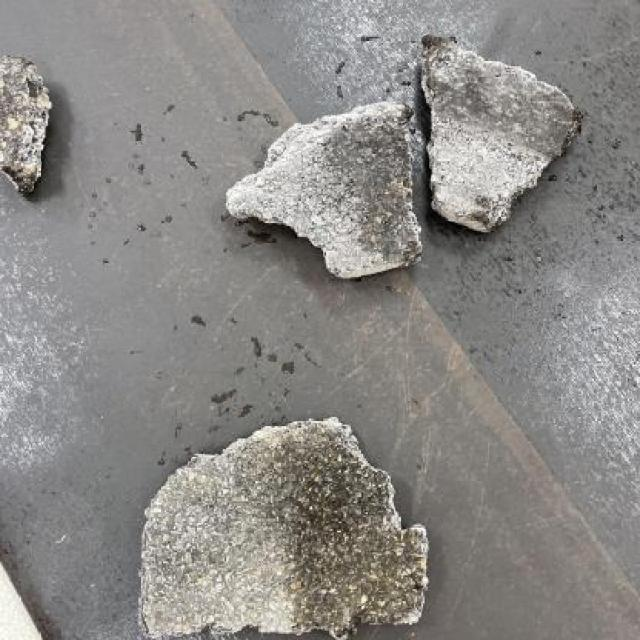Road Debris: (274, 426, 431, 632), (433, 41, 576, 142), (334, 100, 420, 254), (6, 61, 54, 188)
